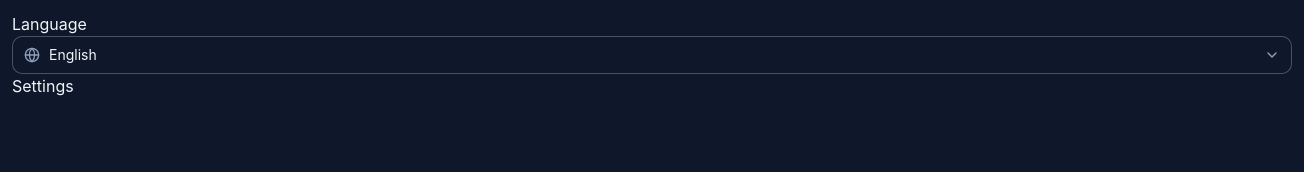
Test case: a newer pick wins over an earlier one that loads later
Select "Dansk" in the dropdown at (652, 55), box [12, 36, 1292, 74]
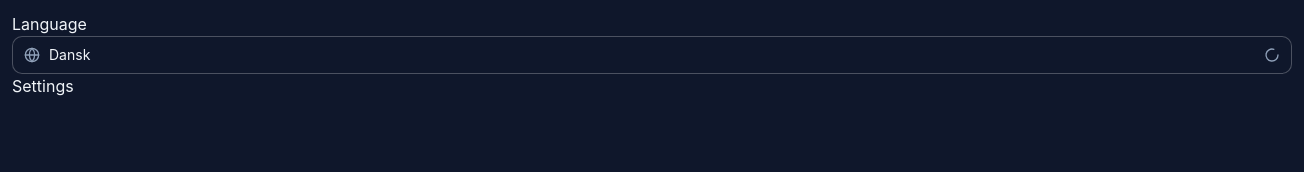
Select "Français" in the dropdown at (652, 55), box [12, 36, 1292, 74]
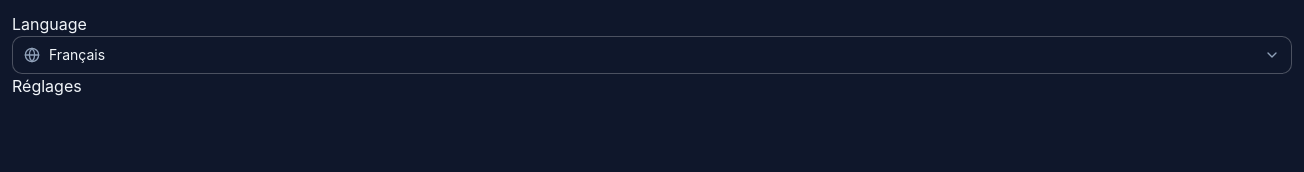
Now the text "Réglages" is shown, box [12, 76, 82, 96]
